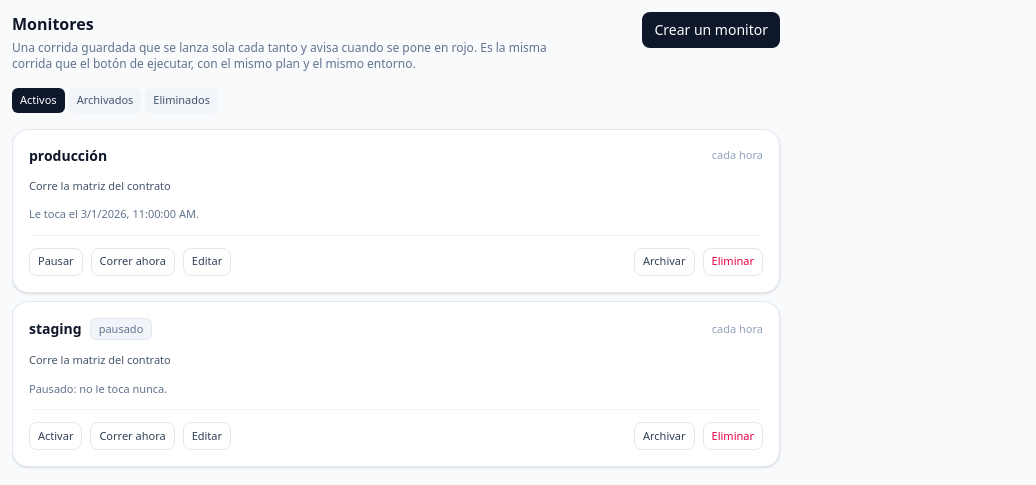
los botones de la tarjeta › pausar y activar mandan lo contrario de lo que hay, y lo dicen
Click the button "Pausar". click: (56, 262)
box: [29,248,83,276]
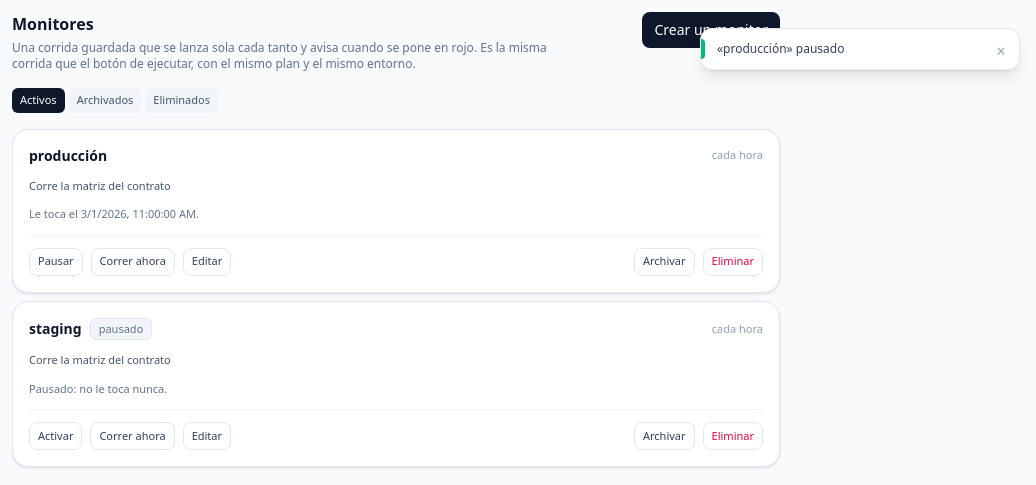
Now the text "«producción» pausado" is shown, box [717,40,844,57]
Click the button "Activar". click: (56, 436)
box: [29,422,82,450]
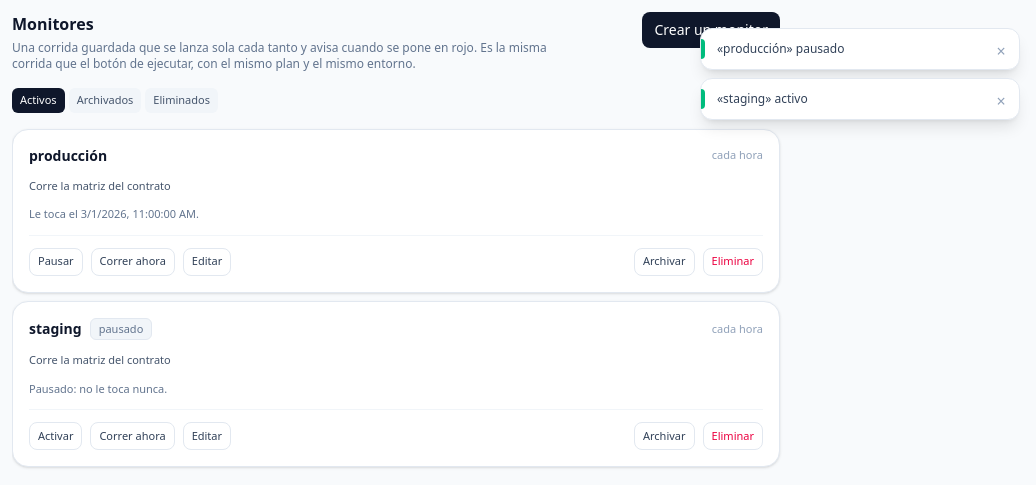
Now the text "«staging» activo" is shown, box [717,90,808,107]
